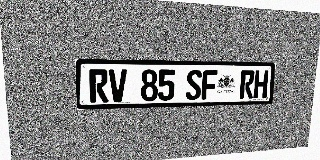5: (158, 70, 175, 101)
8: (141, 69, 158, 101)
F: (201, 70, 218, 100)
H: (253, 70, 269, 98)
R: (89, 69, 108, 103), (239, 70, 255, 99)
S: (186, 70, 202, 100)
V: (109, 69, 127, 102)
